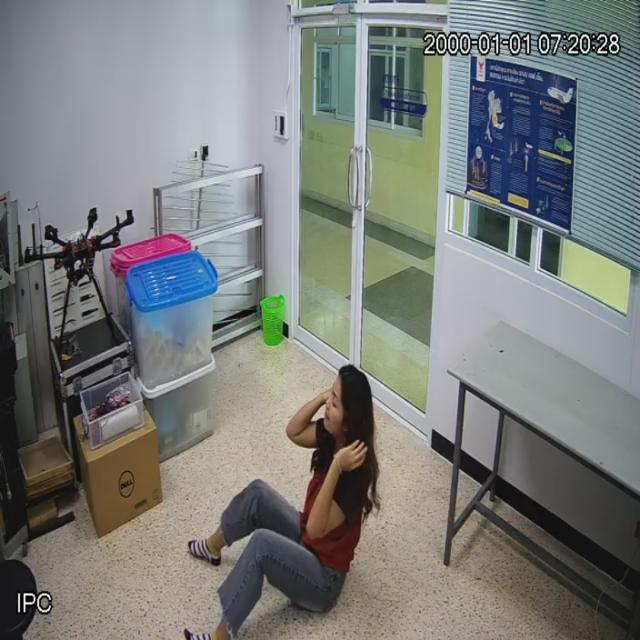fall: (214, 364, 374, 640)
